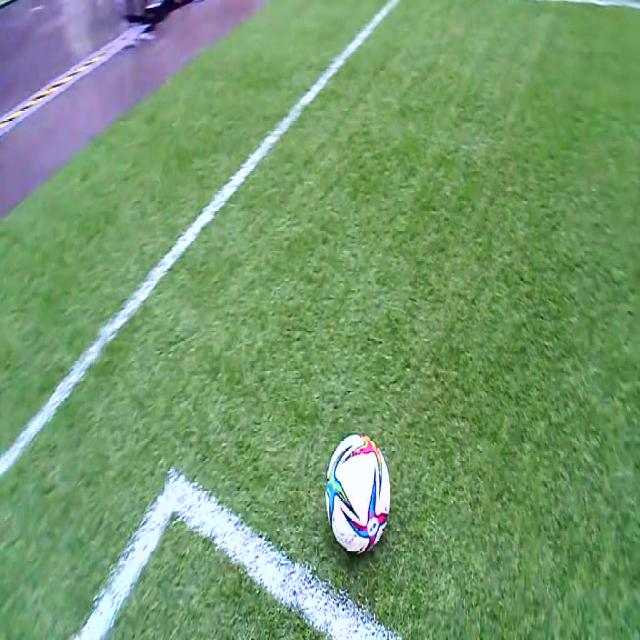ball: (326, 436, 390, 554)
